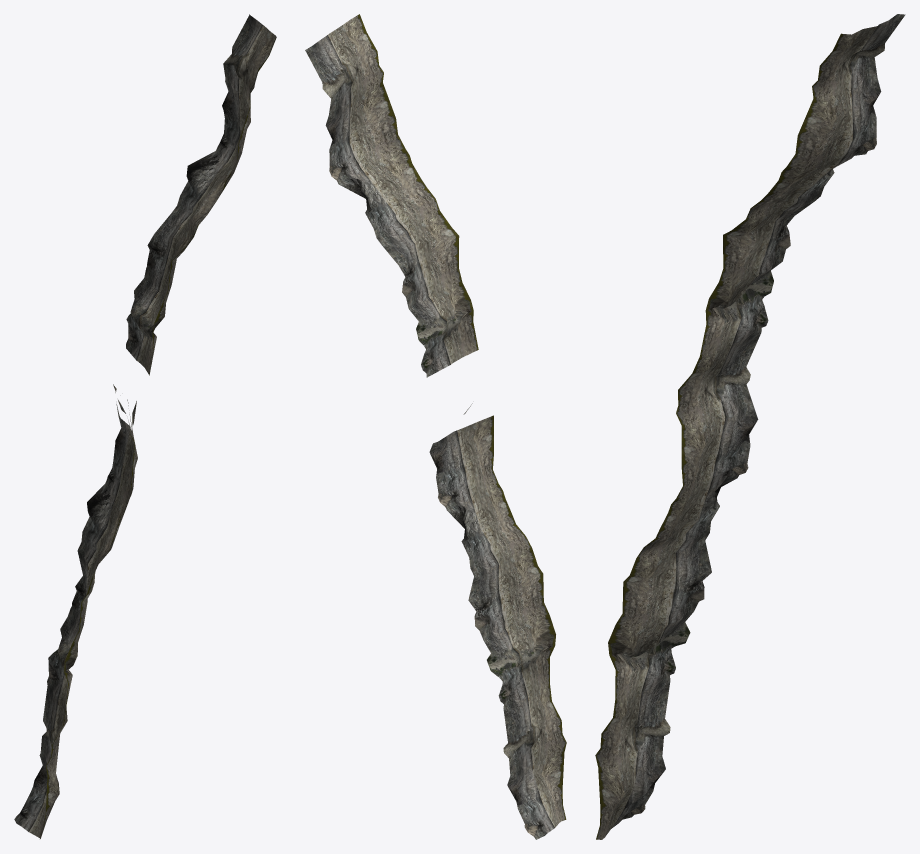
The model's file is cliff03.glb.
The picture shows the model from 3 angles, left to right: view 1: azimuth 30°, elevation 25°; view 2: azimuth 150°, elevation 25°; view 3: azimuth 330°, elevation 25°; orthographic projection. The views are drawn at different scales.
Size of the model in its own units: 4098 by 12430 by 1225.
Materials: 5 (5 with a texture image).
